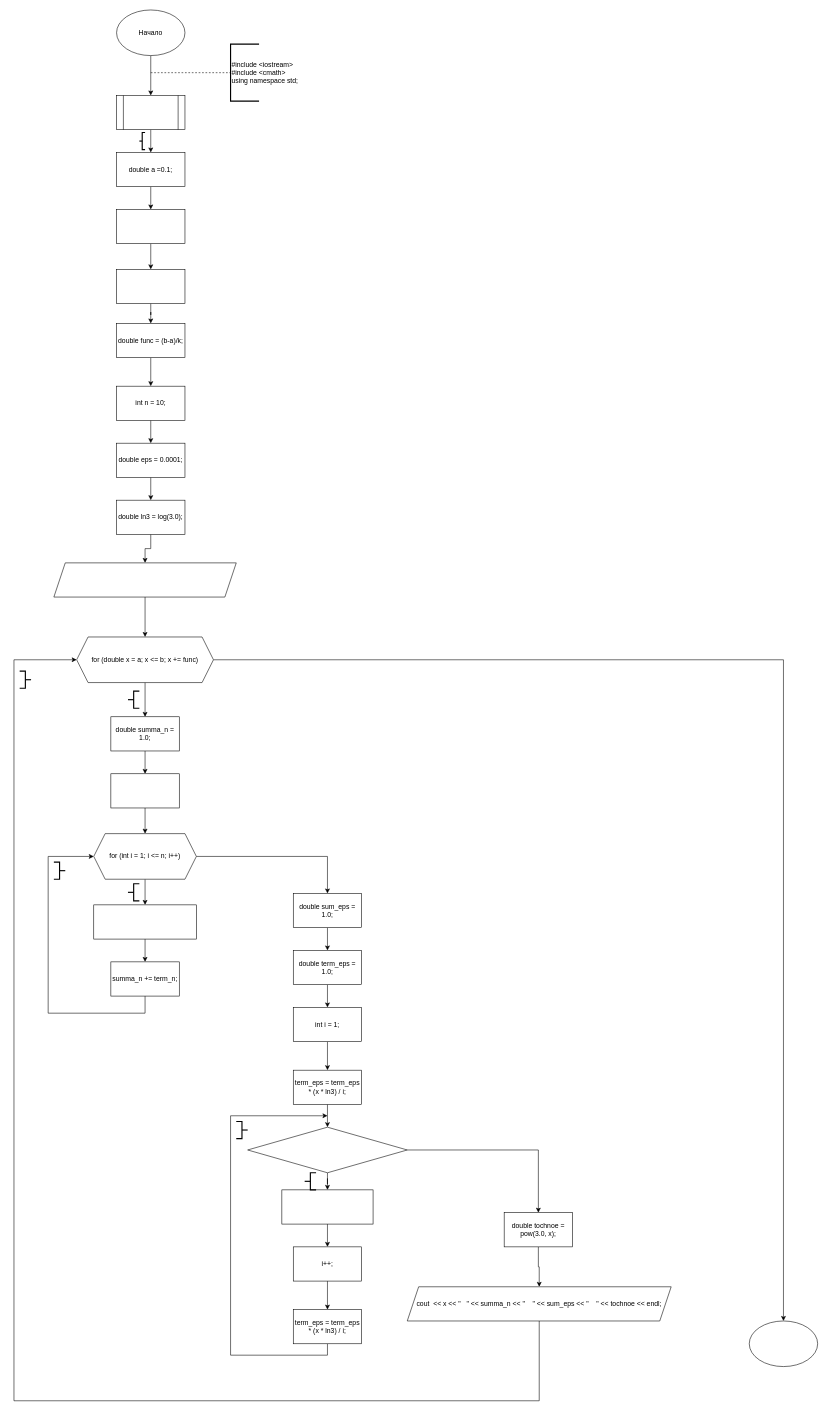
Image size: 828x1415. Some labels were removed from this diagram. The shapes that lost their labels are listed below. From the top down, each one's centre as x and y in pixels, then its label:
(x=150, y=112): int main()
(x=150, y=226): double b = 1.0;
(x=150, y=286): int k = 10;
(x=144, y=579): cout << "x S(n=10) S(eps) y=3^x" << endl;
(x=144, y=790): double term_n = 1.0;
(x=144, y=921): term_n = term_n *(x * ln3) / i;
(x=327, y=1150): while (abs(term_eps) <= eps)
(x=327, y=1206): sum_eps += term_eps;
(x=783, y=1343): return 0;
